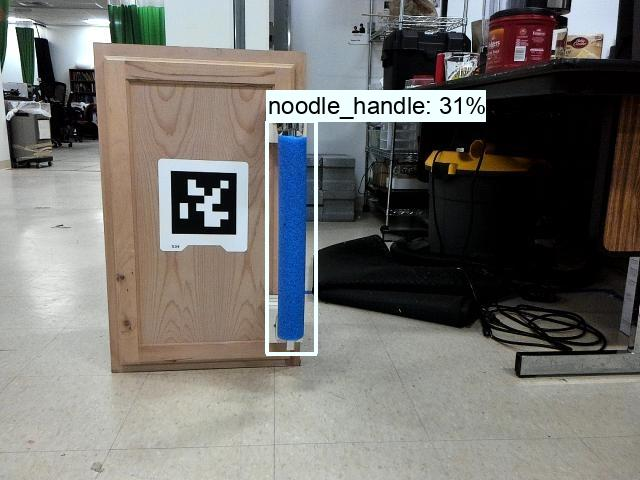noodle_handle: (272, 126, 313, 354)
